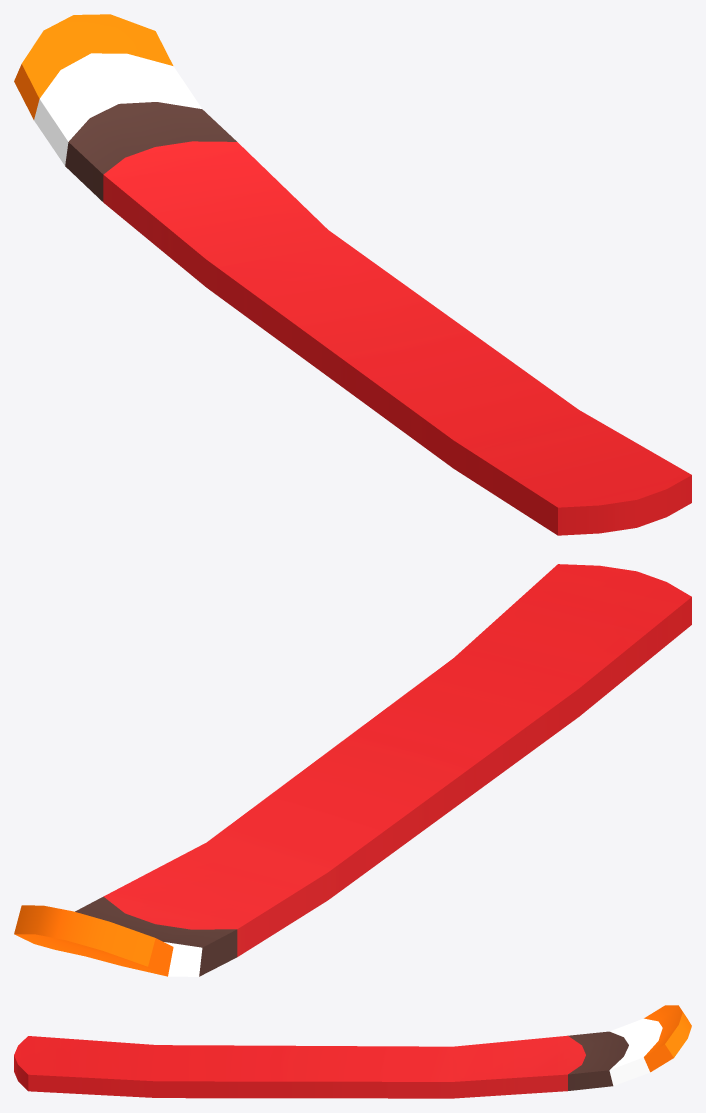
The model's file is ski_001.glb.
3 views of the same model, one above another, from view 1: azimuth 30°, elevation 25°; view 2: azimuth 150°, elevation 25°; view 3: azimuth 270°, elevation 25° (orthographic). The views are drawn at different scales.
Visible parts, largest first — view 1: ski_001; view 2: ski_001; view 3: ski_001.
Boxes of the visible parts, left/top/right/bottom form: ski_001: left=14, top=14, right=691, bottom=535; ski_001: left=14, top=564, right=691, bottom=976; ski_001: left=14, top=1005, right=691, bottom=1098.
Size of the model in its own units: 0.4678 by 0.3865 by 3.45.
1 material, 1 textured.
